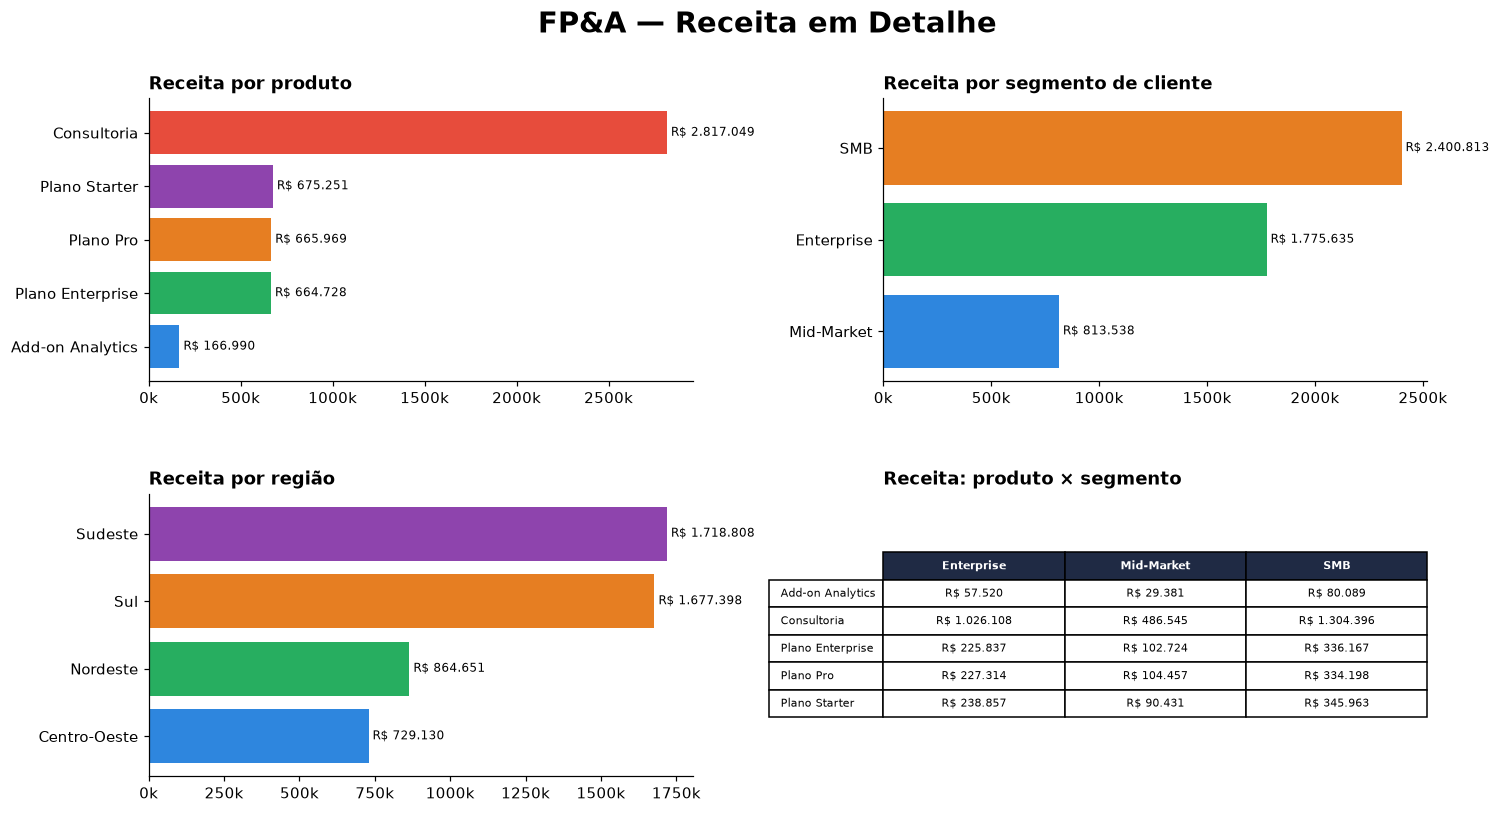

This screenshot's page, from the dashboard's own definition file:
{"tool":"powerbi","page":{"name":"Receita","canvas":[1280,720],"ordinal":1},"visuals":[{"type":"barChart","fields":{"Category":["vendas.produto"],"Y":["Sum(vendas.receita)"]},"box":[0,104,625,280],"z":0},{"type":"barChart","fields":{"Category":["vendas.segmento"],"Y":["Sum(vendas.receita)"]},"box":[0,384,625,280],"z":1000},{"type":"tableEx","fields":{"Values":["vendas.produto","Sum(vendas.quantidade)","Sum(vendas.receita)","vendas.regiao"]},"box":[792,384,461,280],"z":2000},{"type":"lineStackedColumnComboChart","fields":{"Category":["vendas.regiao"],"Y":["Sum(vendas.receita)"]},"box":[792,104,461,280],"z":3000},{"type":"textbox","box":[528,0,223,52],"z":3001}]}

Visuals, with their boxes on the page's 1280x720 design canvas (x1, y1, x2, y2). These are canvas units, not pixel positions in the 1500x813 screenshot, which may show the page scaled, cropped or inside an application window:
barChart - vendas.produto x Sum(vendas.receita): [0, 104, 625, 384]
barChart - vendas.segmento x Sum(vendas.receita): [0, 384, 625, 664]
tableEx - vendas.produto x Sum(vendas.quantidade): [792, 384, 1253, 664]
lineStackedColumnComboChart - vendas.regiao x Sum(vendas.receita): [792, 104, 1253, 384]
textbox: [528, 0, 751, 52]
